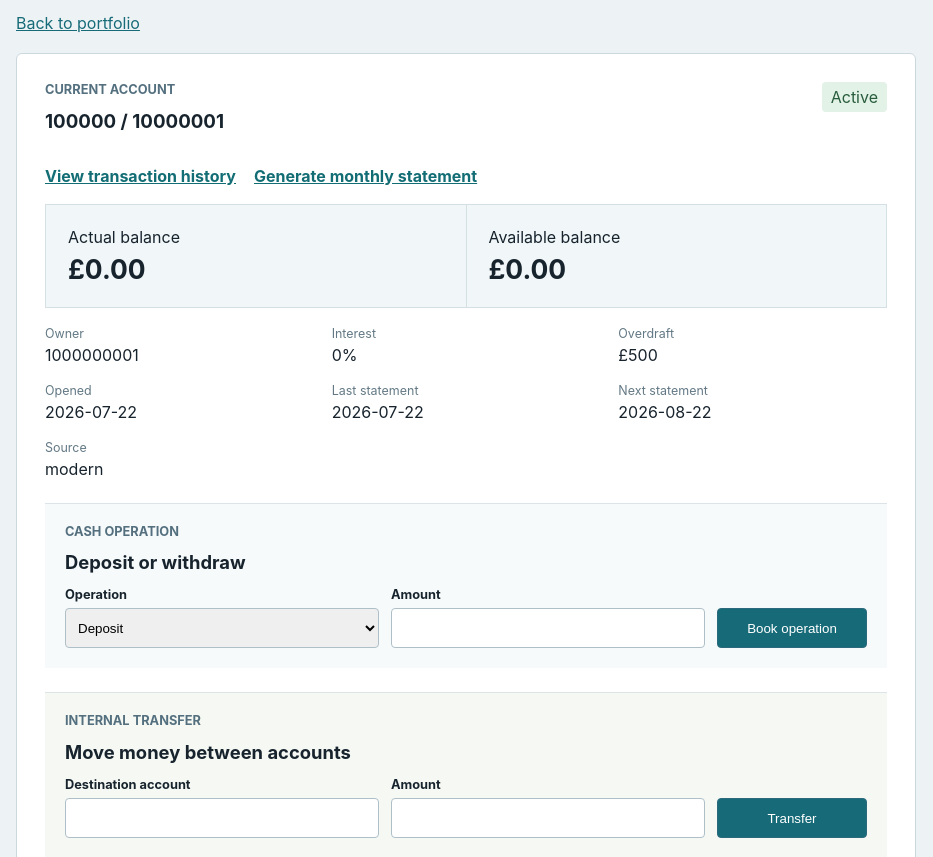
it: AccountDetailComponent › books an internal transfer and reloads the source balance
Type "10000002" into the field named "destinationAccountId" at (222, 818), box [65,798,379,838]
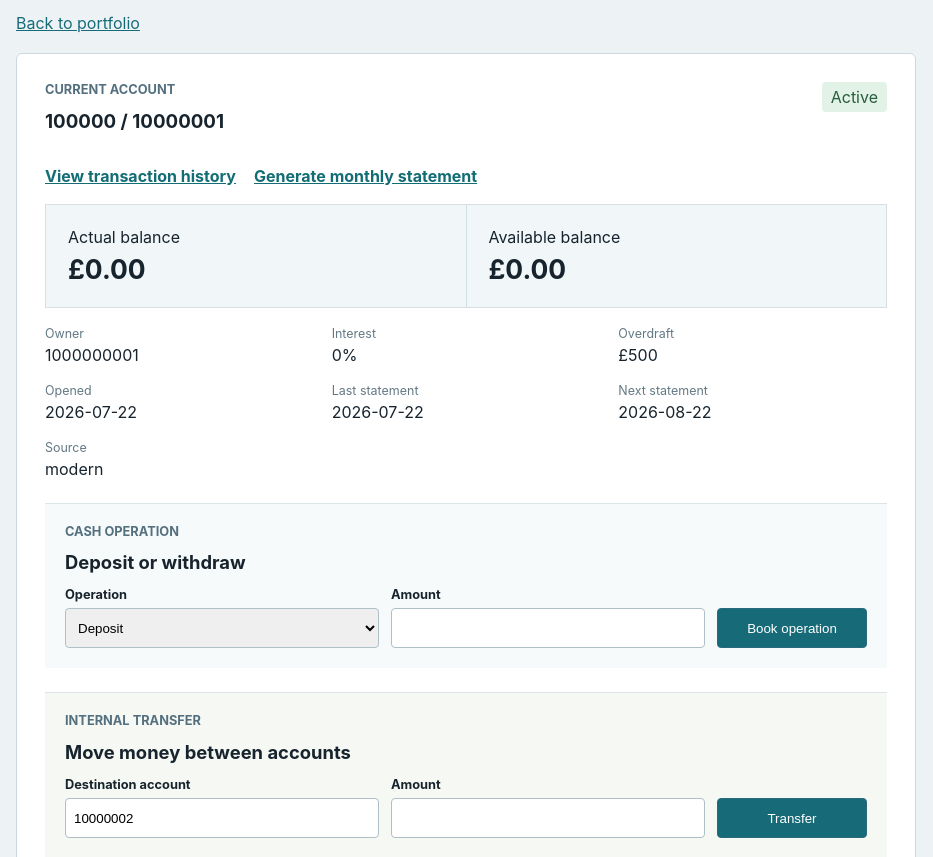
Type "25" into the number field named "amount" at (548, 818), box [391,798,705,838]
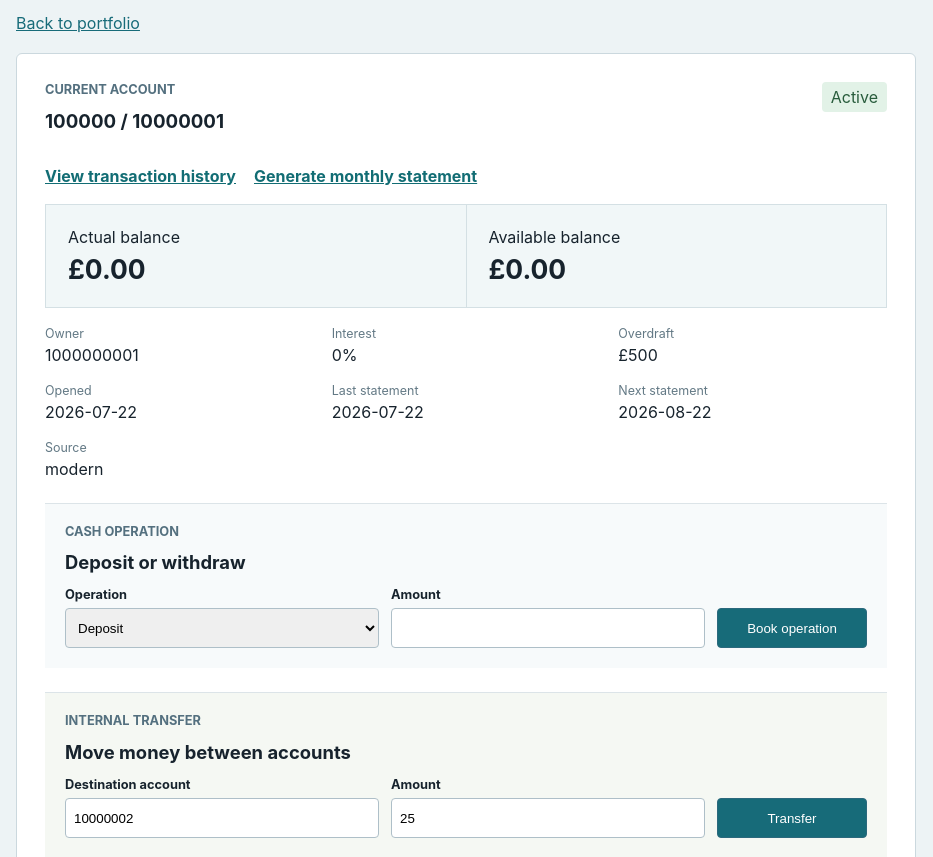
Submit the form "Destination account Amount Transfer", box [65,777,867,838]
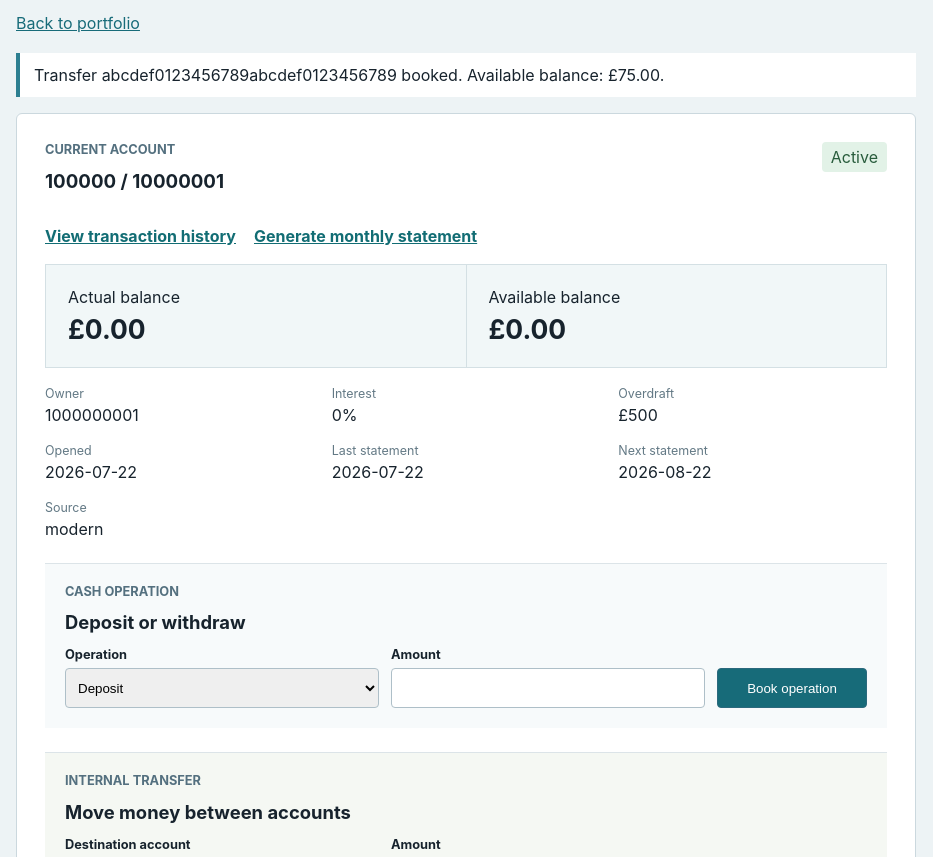
Expected: the message "Transfer abcdef0123456789abcdef0123456789 booked. Available balance: £75.00." is shown, [16,53,916,97]
